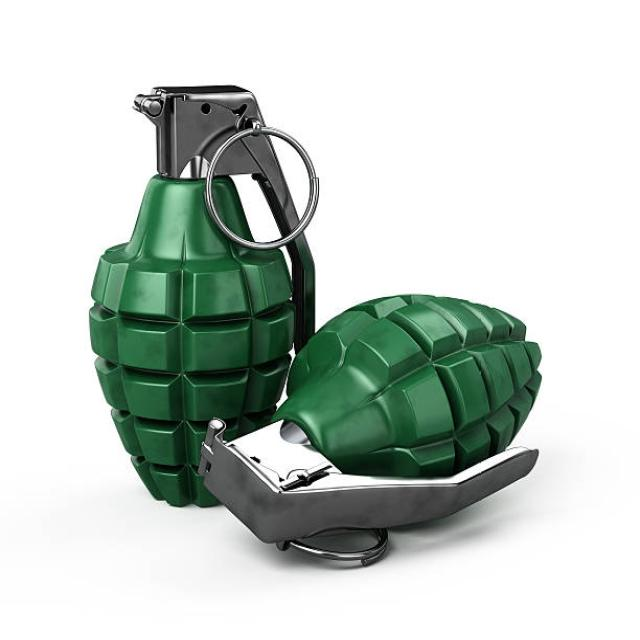grenade: (86, 81, 322, 514), (197, 291, 550, 572)
